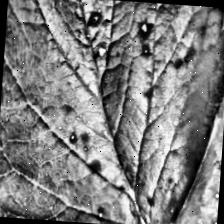Leaf Spot: (0, 0, 224, 224), (164, 4, 224, 224), (0, 134, 47, 219)
